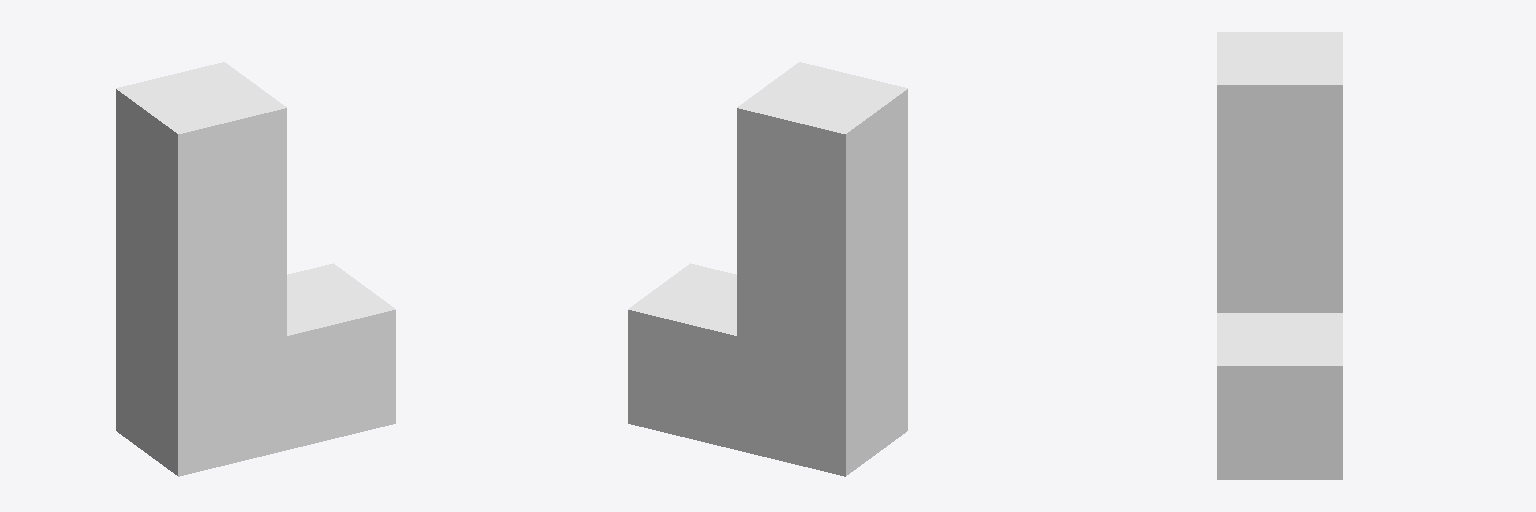
The model's file is Bunny-Bit-3-(White).obj.
3 renders of one model, left to right at view 1: azimuth 30°, elevation 25°; view 2: azimuth 150°, elevation 25°; view 3: azimuth 270°, elevation 25°, orthographic.
Visible parts, largest first — view 1: object 1; view 2: object 1; view 3: object 1.
Boxes of the visible parts, x1,y1,x2,y2 form: object 1: [116, 62, 395, 476]; object 1: [628, 62, 907, 476]; object 1: [1217, 32, 1342, 479].
Size of the model in its own units: 0.2 by 0.3 by 0.1.